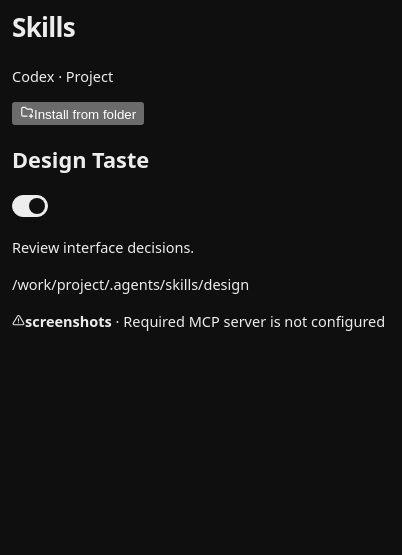
Test case: Agent Skills settings › shows inventory, toggles a skill, and installs from a selected folder
Expected: the heading "Design Taste" is shown, [12, 145, 149, 174]
Expected: the text "Codex · Project" is shown, [12, 66, 113, 86]
Click the switch named "Disable Design Taste" at coordinates (30, 206), box [12, 195, 48, 217]
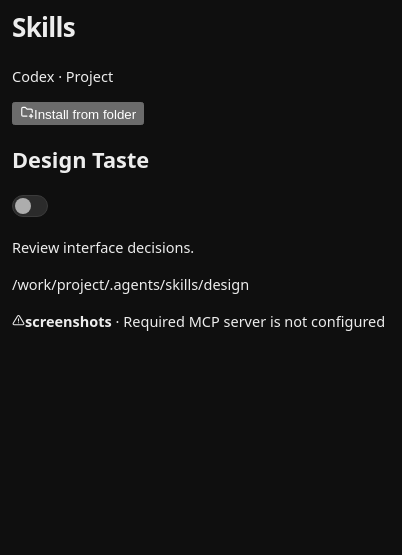
Click the button "Install from folder" at coordinates (78, 114), box [12, 102, 144, 125]
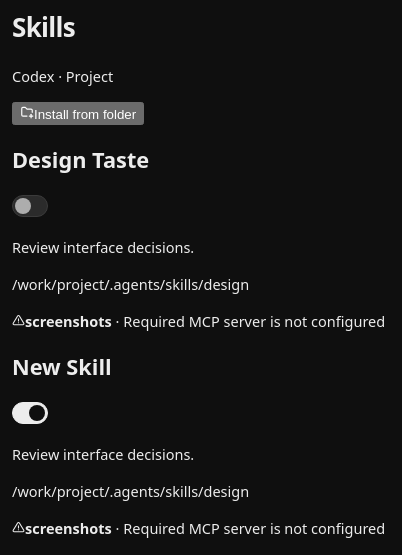
Result: the heading "New Skill" is shown at [12, 352, 112, 381]
